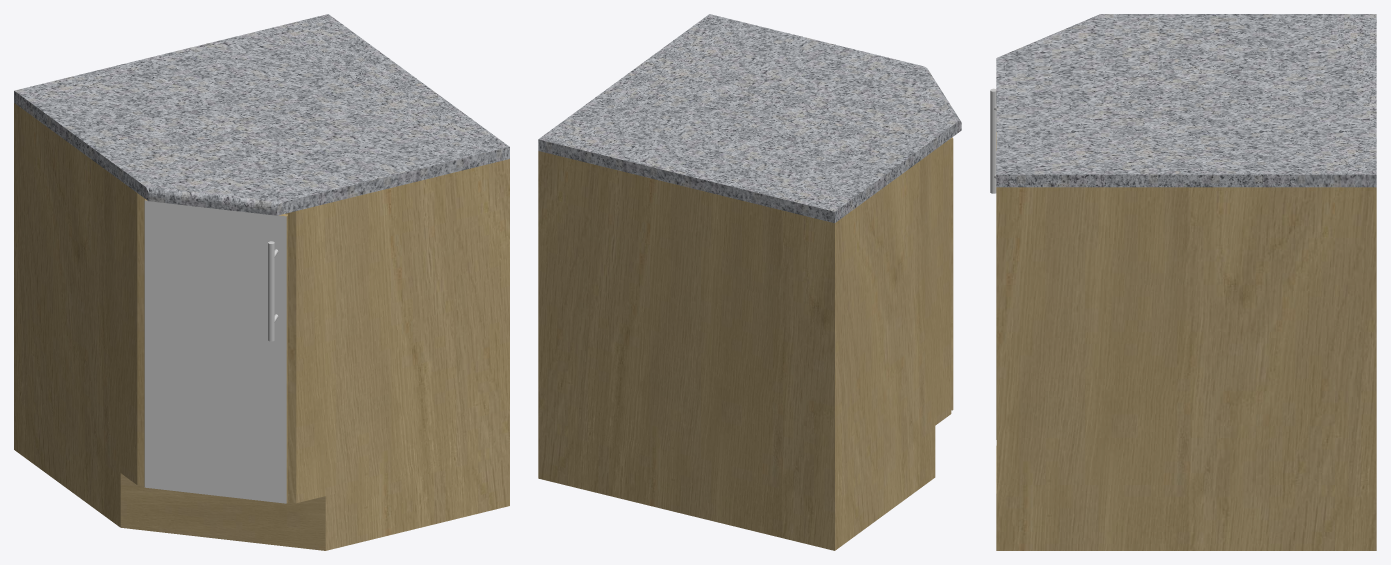
The model's file is sweethome3d-blendswap-cc-0-lower-corner-cabinet-153.glb.
3 views of the same model, side by side, from view 1: azimuth 30°, elevation 25°; view 2: azimuth 150°, elevation 25°; view 3: azimuth 270°, elevation 25° (orthographic). The views are drawn at different scales.
Visible parts, largest first — view 1: Cube.001; view 2: Cube.001; view 3: Cube.001.
Boxes of the visible parts, x1=… form: Cube.001: x1=14, y1=14, x2=509, y2=550; Cube.001: x1=538, y1=14, x2=961, y2=550; Cube.001: x1=990, y1=14, x2=1376, y2=550.
Size of the model in its own units: 81 by 88.48 by 82.31.
7 materials, 5 textured.
